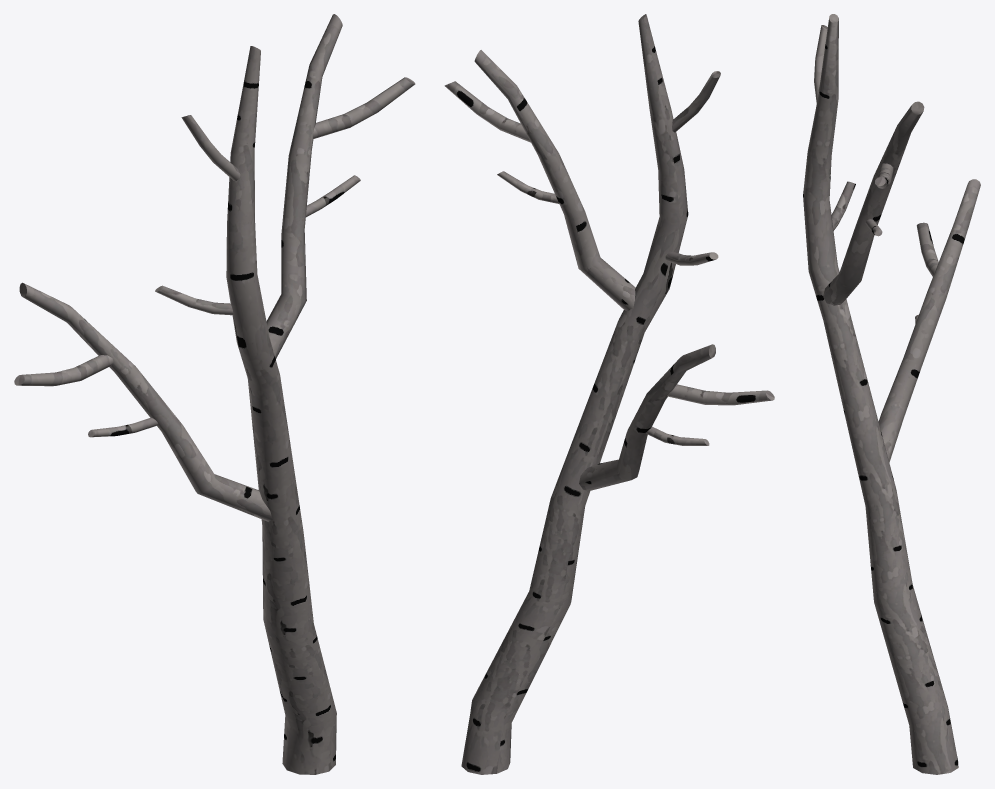
Rendered from deadbirch_9.glb.
3 views of the same model, side by side, from view 1: azimuth 30°, elevation 25°; view 2: azimuth 150°, elevation 25°; view 3: azimuth 270°, elevation 25° (orthographic). The views are drawn at different scales.
Parts seen in each view (by area): view 1: DeadBirch_9; view 2: DeadBirch_9; view 3: DeadBirch_9.
Part boxes in pixels (x1=…): DeadBirch_9: x1=14, y1=14, x2=415, y2=774; DeadBirch_9: x1=444, y1=14, x2=774, y2=774; DeadBirch_9: x1=803, y1=14, x2=980, y2=774.
Bounding box in the file's own units: 4.32 × 8.66 × 1.99.
1 material, 1 textured.
